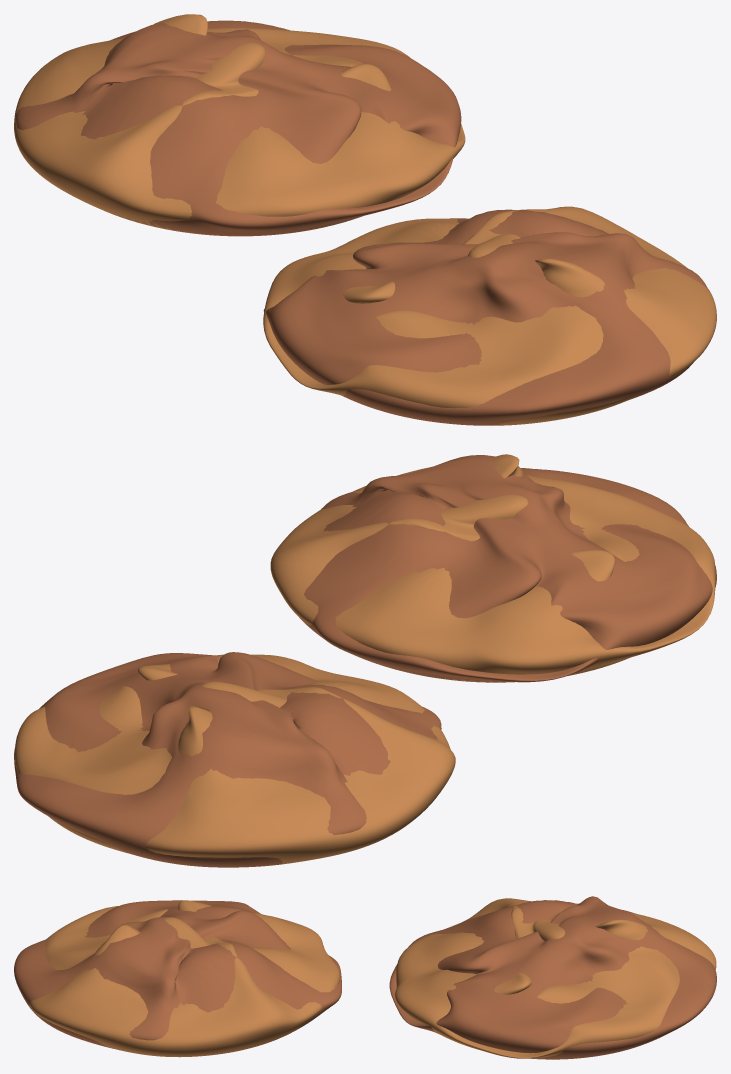
File: chaipoh1.fbx
3 renders of one model, top to bottom at view 1: azimuth 30°, elevation 25°; view 2: azimuth 150°, elevation 25°; view 3: azimuth 270°, elevation 25°, orthographic. The views are drawn at different scales.
Parts seen in each view (by area): view 1: Sphere.004, Sphere.039, Sphere.016, Sphere.003; view 2: Sphere.004, Sphere.039, Sphere.016, Sphere.003; view 3: Sphere.039, Sphere.003, Sphere.004, Sphere.016.
Part boxes in pixels (box(x1,y1,x2,y2)): Sphere.004: box(263, 209, 707, 425); Sphere.039: box(16, 20, 461, 236); Sphere.016: box(14, 14, 465, 236); Sphere.003: box(263, 206, 716, 425); Sphere.004: box(300, 455, 716, 682); Sphere.039: box(14, 652, 441, 867); Sphere.016: box(14, 654, 455, 864); Sphere.003: box(270, 454, 715, 682); Sphere.039: box(389, 896, 716, 1059); Sphere.003: box(29, 900, 340, 1057); Sphere.004: box(14, 900, 341, 1048); Sphere.016: box(395, 898, 716, 1059).
Bounding box in the file's own units: 160 × 56.03 × 336.
